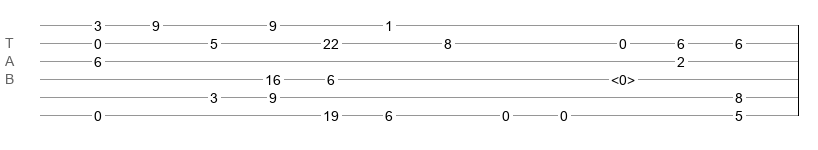0: (94, 36, 102, 46), (94, 108, 102, 118), (502, 108, 510, 118), (560, 108, 568, 118), (619, 36, 627, 46)
1: (385, 18, 393, 28)
16: (265, 72, 281, 82)
19: (323, 108, 339, 118)
2: (677, 54, 685, 64)
22: (323, 36, 339, 46)
3: (94, 18, 102, 28), (210, 90, 218, 100)
5: (210, 36, 218, 46), (735, 108, 743, 118)
6: (94, 54, 102, 64), (327, 72, 335, 82), (385, 108, 393, 118), (677, 36, 685, 46), (735, 36, 743, 46)
8: (444, 36, 452, 46), (735, 90, 743, 100)
9: (152, 18, 160, 28), (269, 90, 277, 100), (269, 18, 277, 28)
harmonic: (611, 72, 635, 82)
